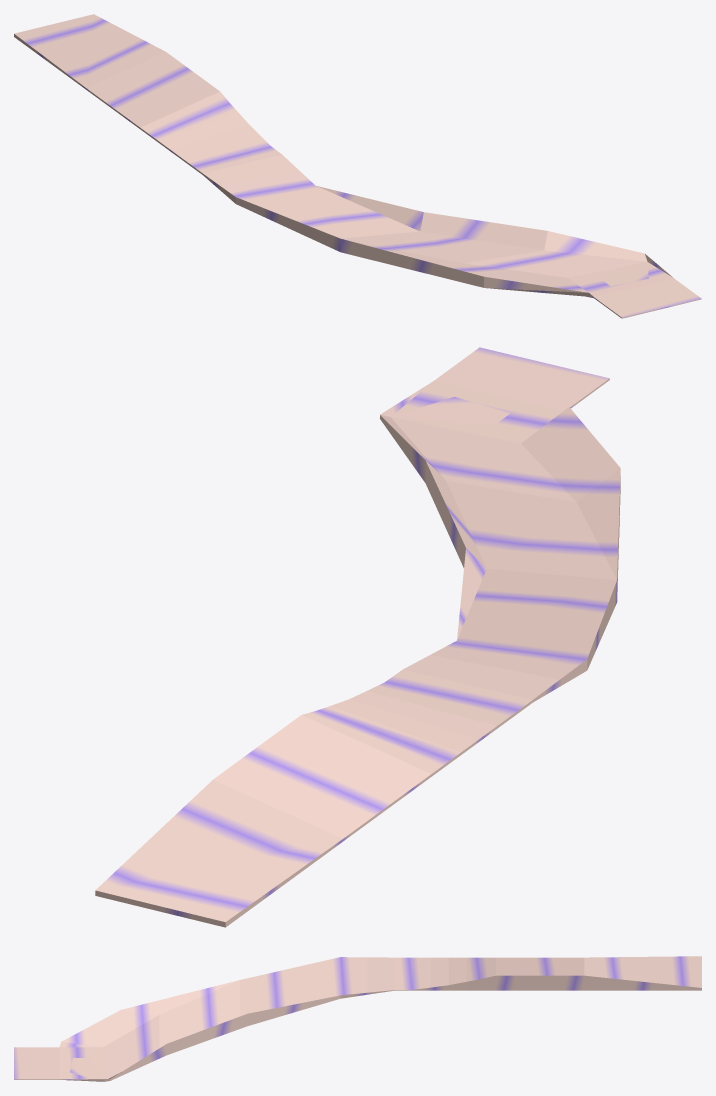
Rendered from easytwirls.fbx.
The picture shows the model from 3 angles, top to bottom: view 1: azimuth 30°, elevation 25°; view 2: azimuth 150°, elevation 25°; view 3: azimuth 270°, elevation 25°; orthographic projection. The views are drawn at different scales.
Visible parts, largest first — view 1: Cube; view 2: Cube; view 3: Cube.
Part boxes in pixels (left/top/right/bottom): Cube: left=14, top=14, right=701, bottom=318; Cube: left=95, top=347, right=620, bottom=927; Cube: left=14, top=956, right=701, bottom=1081.
Size of the model in its own units: 16954 by 2372 by 46207.
